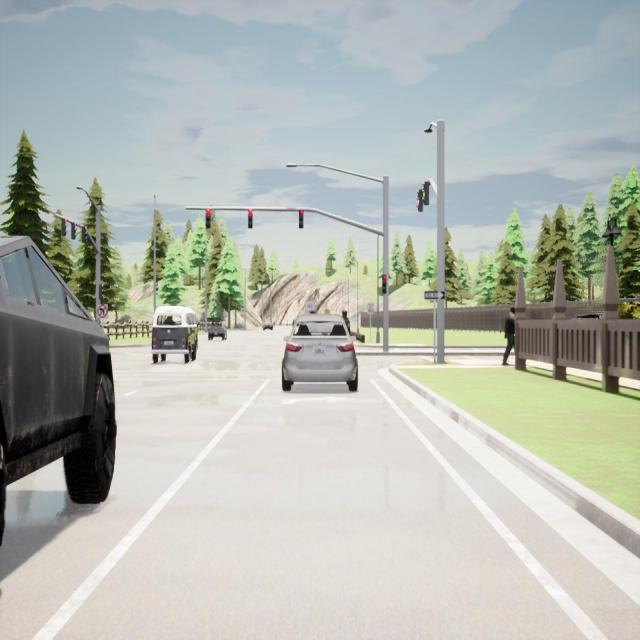Pedestrian: (502, 307, 515, 365), (342, 310, 351, 334)
Traffic_Signs: (424, 291, 445, 299), (97, 304, 108, 317), (304, 302, 314, 312), (367, 303, 374, 314)
Vehicle: (0, 237, 117, 528), (282, 313, 357, 391), (151, 306, 198, 363), (208, 321, 227, 342), (262, 321, 273, 331)
traffic_light: (422, 181, 430, 205), (416, 188, 423, 212), (71, 222, 77, 240), (206, 208, 211, 229), (61, 219, 67, 236), (248, 208, 253, 228), (98, 284, 104, 300), (382, 275, 387, 294), (82, 226, 87, 243), (299, 208, 303, 228)
